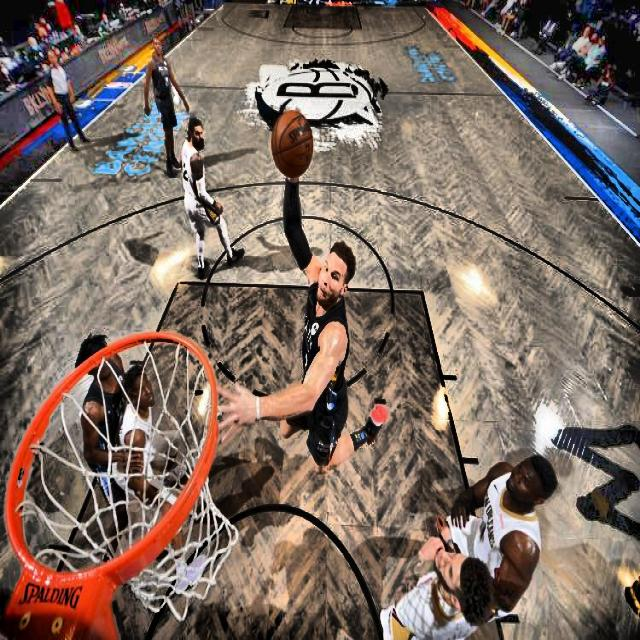board: (272, 109, 314, 178)
rim: (5, 331, 221, 607)
